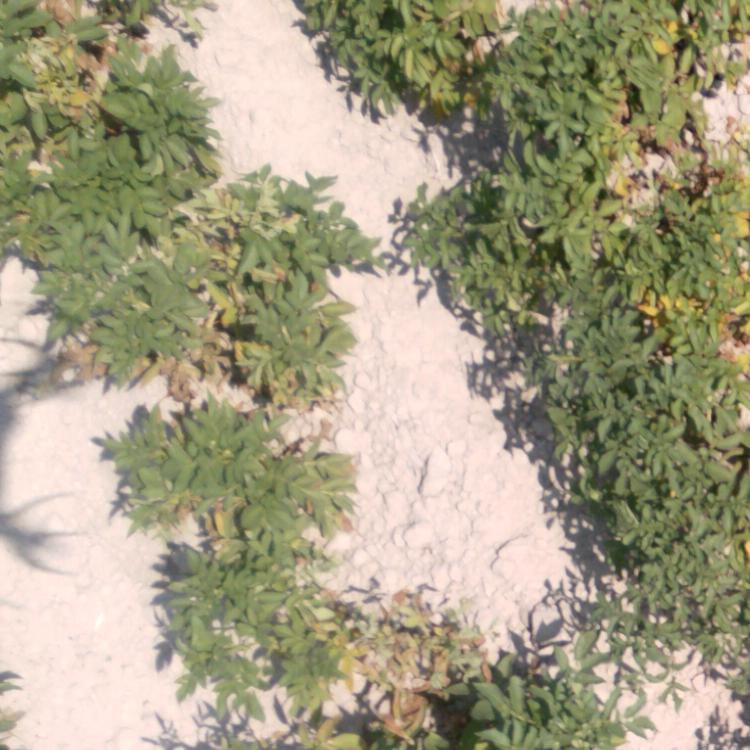healthy: (507, 350, 746, 545), (412, 135, 574, 341), (1, 176, 129, 366), (575, 532, 748, 664), (305, 1, 498, 108), (506, 658, 616, 742)
stressed: (143, 175, 345, 420), (152, 537, 370, 748), (571, 137, 750, 356), (1, 1, 196, 179), (107, 422, 327, 541), (379, 588, 504, 750), (514, 1, 749, 81), (524, 74, 740, 133)
